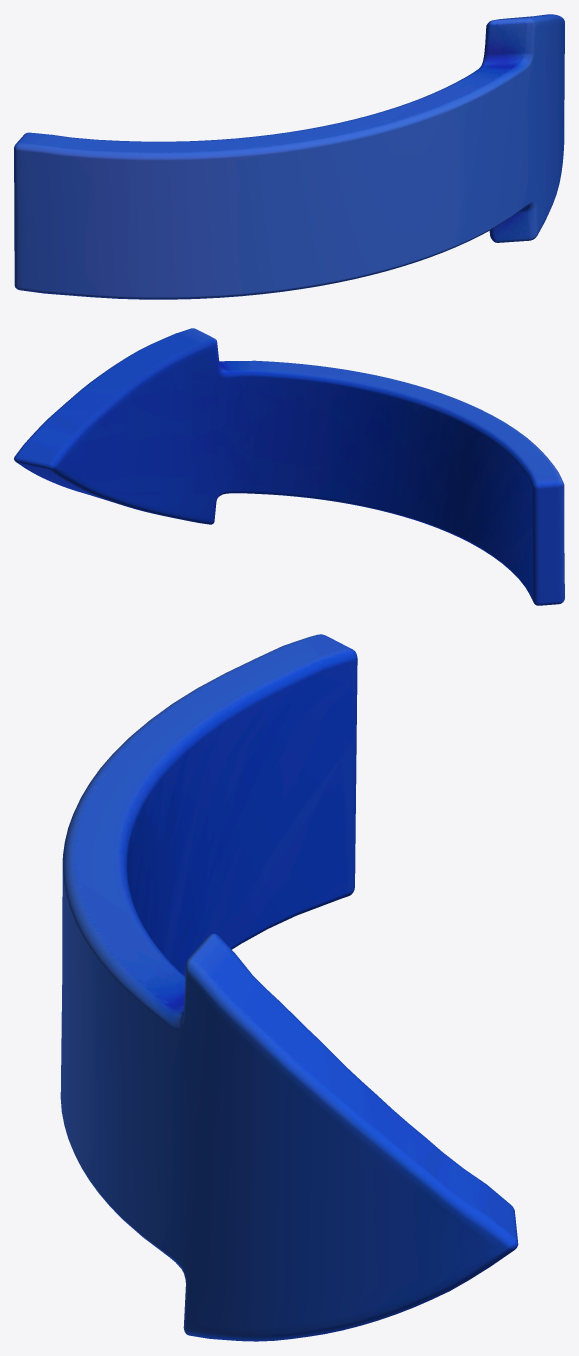
Rendered from circleArrow.fbx.
The picture shows the model from 3 angles, top to bottom: view 1: azimuth 30°, elevation 25°; view 2: azimuth 150°, elevation 25°; view 3: azimuth 270°, elevation 25°; orthographic projection. The views are drawn at different scales.
Visible parts, largest first — view 1: mesh_id6; view 2: mesh_id6; view 3: mesh_id6.
Boxes of the visible parts, bbox=[...] form: mesh_id6: bbox=[14, 14, 564, 299]; mesh_id6: bbox=[14, 328, 564, 605]; mesh_id6: bbox=[60, 634, 518, 1341].
Bounding box in the file's own units: 456 × 163 × 180.
1 material, 1 textured.
